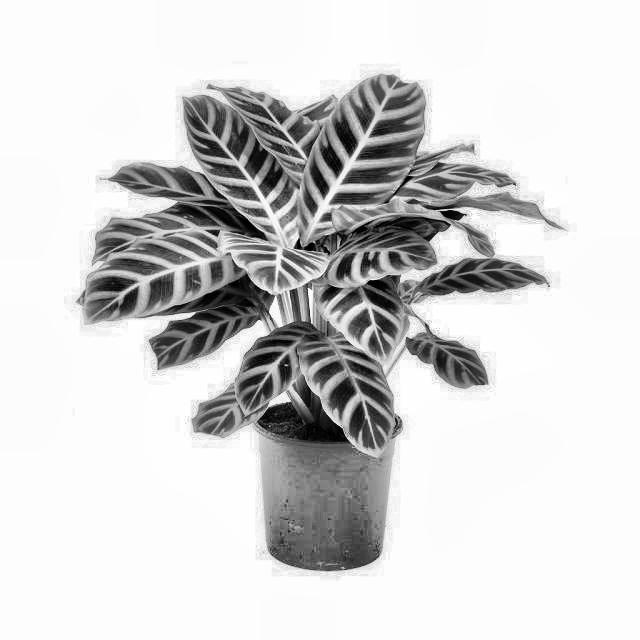plants: (78, 53, 520, 580)
